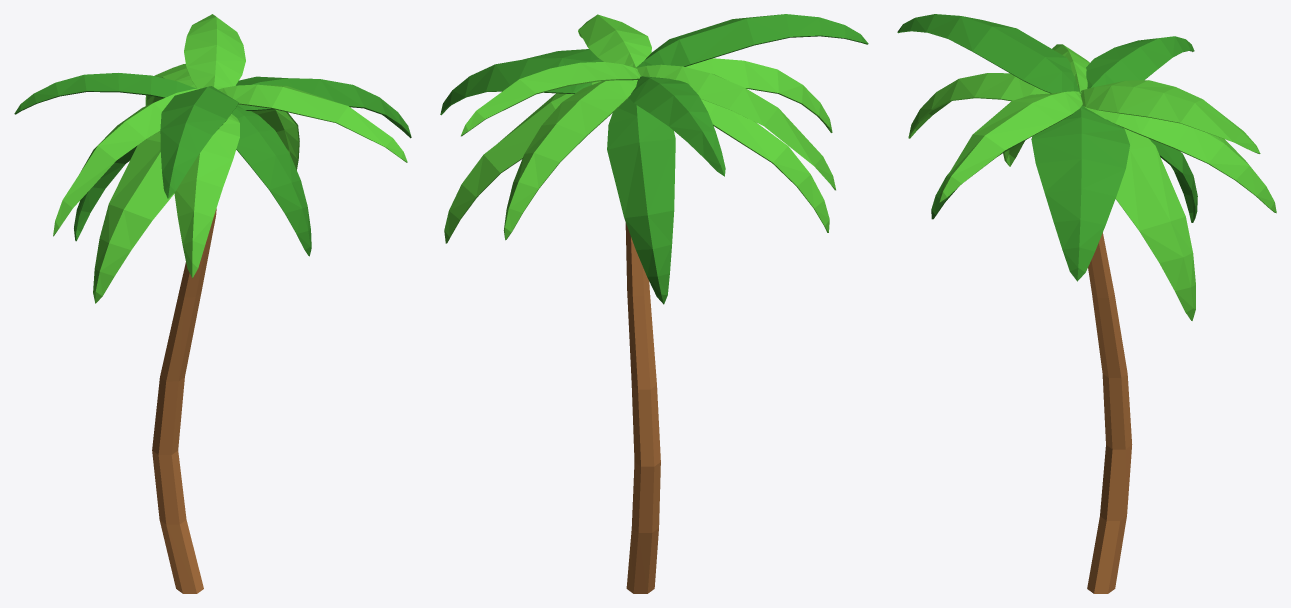
The model's file is palmtree-3.glb.
3 views of the same model, side by side, from view 1: azimuth 30°, elevation 25°; view 2: azimuth 150°, elevation 25°; view 3: azimuth 270°, elevation 25° (orthographic).
Parts seen in each view (by area): view 1: PalmTree_3; view 2: PalmTree_3; view 3: PalmTree_3.
Boxes of the visible parts, <box> form: PalmTree_3: <box>14,14,411,593</box>; PalmTree_3: <box>440,14,868,593</box>; PalmTree_3: <box>897,14,1276,593</box>.
Size of the model in its own units: 2.88 by 3.93 by 2.51.
